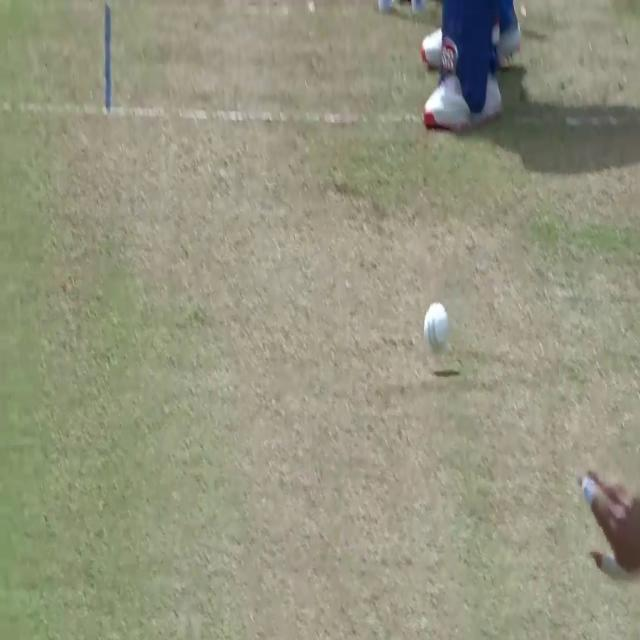ball: (423, 302, 449, 348)
